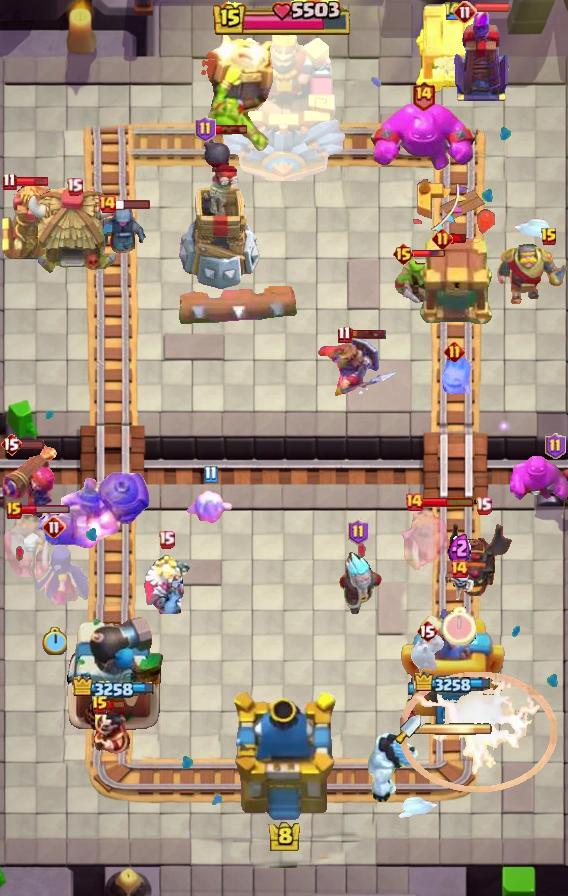archer-evolution: (450, 519, 516, 599)
axe: (16, 528, 92, 608)
bar: (401, 601, 505, 731)
barbarian-evolution: (399, 671, 556, 793)
bat: (432, 355, 476, 401)
battle-ram: (94, 202, 152, 270)
bomb: (413, 0, 493, 94), (415, 238, 493, 326)
clock: (213, 0, 355, 38)
clone: (368, 100, 478, 174)
electro-spirit: (448, 532, 471, 564)
elixir: (442, 607, 476, 646), (41, 627, 66, 655)
elixir-golem-big: (317, 336, 399, 396)
emote: (421, 496, 474, 508), (20, 504, 72, 515), (349, 328, 386, 340), (14, 176, 50, 188), (115, 198, 151, 210), (9, 438, 45, 450), (475, 3, 511, 14), (213, 124, 248, 135), (412, 249, 446, 259), (106, 698, 126, 709), (451, 232, 469, 244)
firecracker: (497, 244, 568, 304)
goblin-brawler: (0, 180, 62, 264)
heal-spirit: (442, 567, 476, 603)
ice-spirit-evolution-symbol: (450, 7, 512, 103)
king-tower: (220, 21, 348, 181), (227, 692, 341, 826)
king-tower-bar: (421, 722, 493, 736)
lumberjack: (89, 710, 131, 758)
mega-minion: (0, 443, 60, 523)
minion: (176, 286, 300, 326)
mirror: (185, 489, 235, 527)
mortar: (327, 549, 389, 617)
mortar-evolution: (398, 507, 454, 573), (0, 512, 54, 578), (139, 552, 193, 614)
prince: (27, 186, 121, 276)
rage: (362, 731, 422, 803)
royal-delivery: (406, 632, 448, 674)
selected: (71, 675, 156, 700), (414, 672, 494, 696)
text: (412, 81, 437, 112), (453, 0, 477, 24), (42, 515, 66, 539), (195, 116, 217, 142), (393, 242, 416, 266), (545, 433, 566, 459), (348, 519, 369, 545), (0, 432, 22, 456), (416, 619, 438, 643), (431, 227, 453, 249), (444, 341, 465, 363), (443, 0, 463, 20), (97, 194, 117, 214), (404, 492, 424, 512), (449, 559, 469, 579), (540, 227, 558, 247), (91, 695, 109, 715), (66, 176, 83, 195), (158, 531, 175, 550), (476, 497, 493, 515), (6, 501, 22, 519), (3, 173, 18, 191), (202, 465, 217, 483), (337, 325, 351, 343)
tornado: (510, 455, 568, 501)
tower-bar: (63, 615, 165, 731)
wizard: (27, 471, 151, 549)
x-bow: (199, 31, 279, 157)
zap: (393, 258, 441, 304)
zappy: (177, 133, 264, 291)
